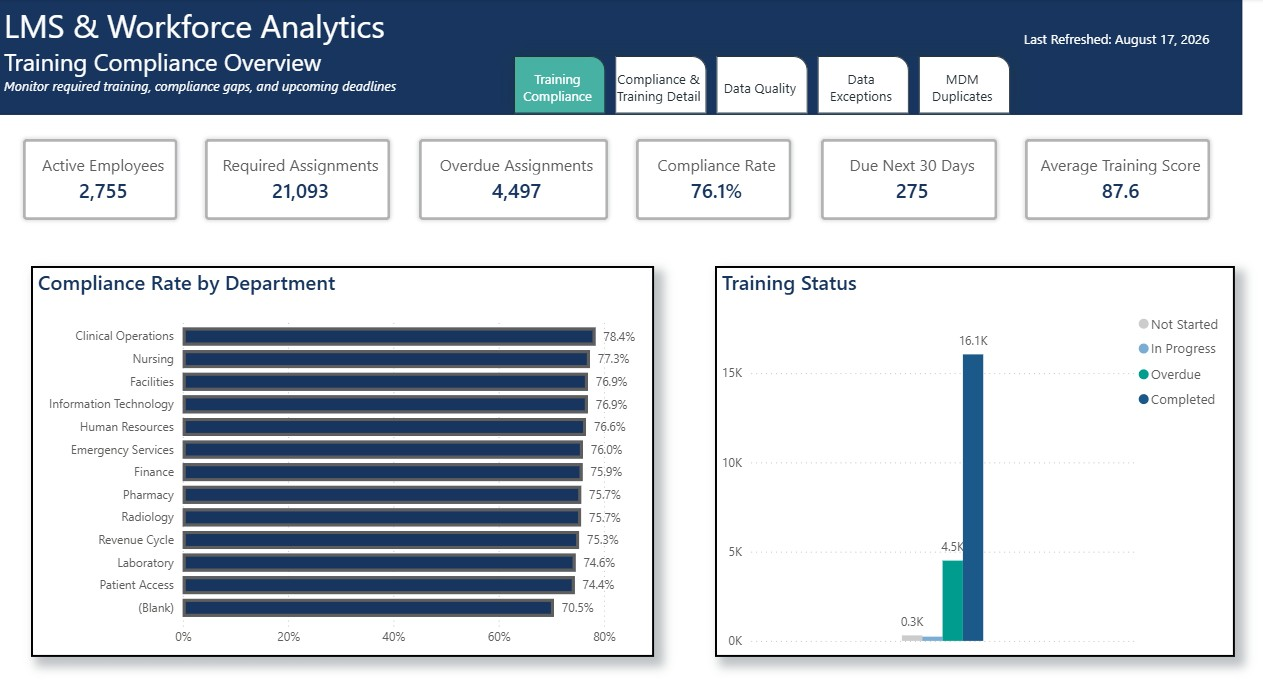

What the dashboard file says about the page in this screenshot:
{"tool":"powerbi","page":{"name":"Training Compliance","canvas":[1280,720],"ordinal":0},"visuals":[{"type":"shape","box":[0,0,1253.1,117.6],"z":0},{"type":"pageNavigator","box":[519.2,58.8,501,58.8],"z":1000},{"type":"cardVisual","fields":{"Data":["vw_TrainingCompliance.Active Employees"]},"box":[0,117.6,204,130.4],"z":2000},{"type":"cardVisual","fields":{"Data":["vw_TrainingCompliance.Required Assignments"]},"box":[183.9,117.6,235.3,130.4],"z":3000},{"type":"cardVisual","fields":{"Data":["vw_TrainingCompliance.Compliance Rate %"]},"box":[618.2,117.6,205.9,130.4],"z":4000},{"type":"cardVisual","fields":{"Data":["vw_TrainingCompliance.Overdue Assignments"]},"box":[399.1,117.6,239.1,130.4],"z":5000},{"type":"textbox","box":[1028.1,26.9,206.5,31.9],"z":6000},{"type":"textbox","box":[0,0,640.6,117.6],"z":7000},{"type":"cardVisual","fields":{"Data":["vw_TrainingCompliance.Due Next 30 Days"]},"box":[803.9,117.6,226.3,130.4],"z":8000},{"type":"cardVisual","fields":{"Data":["vw_TrainingCompliance.Average Training Score"]},"box":[1010.2,117.6,235.3,130.4],"z":9000},{"type":"barChart","title":"Compliance Rate  by Department","fields":{"Category":["vw_TrainingCompliance.Department"],"Y":["vw_TrainingCompliance.Compliance Rate %"]},"box":[32,269.8,627.9,393.8],"z":10000},{"type":"clusteredColumnChart","title":"Training Status","fields":{"Y":["Sum(vw_TrainingCompliance.Not_Started_Count)","Sum(vw_TrainingCompliance.In_Progress_Count)","Sum(vw_TrainingCompliance.Overdue_Count)","Sum(vw_TrainingCompliance.Completed_Count)"]},"box":[721.2,269.8,524.3,393.8],"z":11000}]}

Visuals, with their boxes on the page's 1280x720 design canvas (x1, y1, x2, y2). These are canvas units, not pixel positions in the 1263x685 screenshot, which may show the page scaled, cropped or inside an application window:
shape: left=0, top=0, right=1253, bottom=118
pageNavigator: left=519, top=59, right=1020, bottom=118
cardVisual - vw_TrainingCompliance.Active Employees: left=0, top=118, right=204, bottom=248
cardVisual - vw_TrainingCompliance.Required Assignments: left=184, top=118, right=419, bottom=248
cardVisual - vw_TrainingCompliance.Compliance Rate %: left=618, top=118, right=824, bottom=248
cardVisual - vw_TrainingCompliance.Overdue Assignments: left=399, top=118, right=638, bottom=248
textbox: left=1028, top=27, right=1235, bottom=59
textbox: left=0, top=0, right=641, bottom=118
cardVisual - vw_TrainingCompliance.Due Next 30 Days: left=804, top=118, right=1030, bottom=248
cardVisual - vw_TrainingCompliance.Average Training Score: left=1010, top=118, right=1246, bottom=248
"Compliance Rate  by Department" barChart: left=32, top=270, right=660, bottom=664
"Training Status" clusteredColumnChart: left=721, top=270, right=1246, bottom=664
